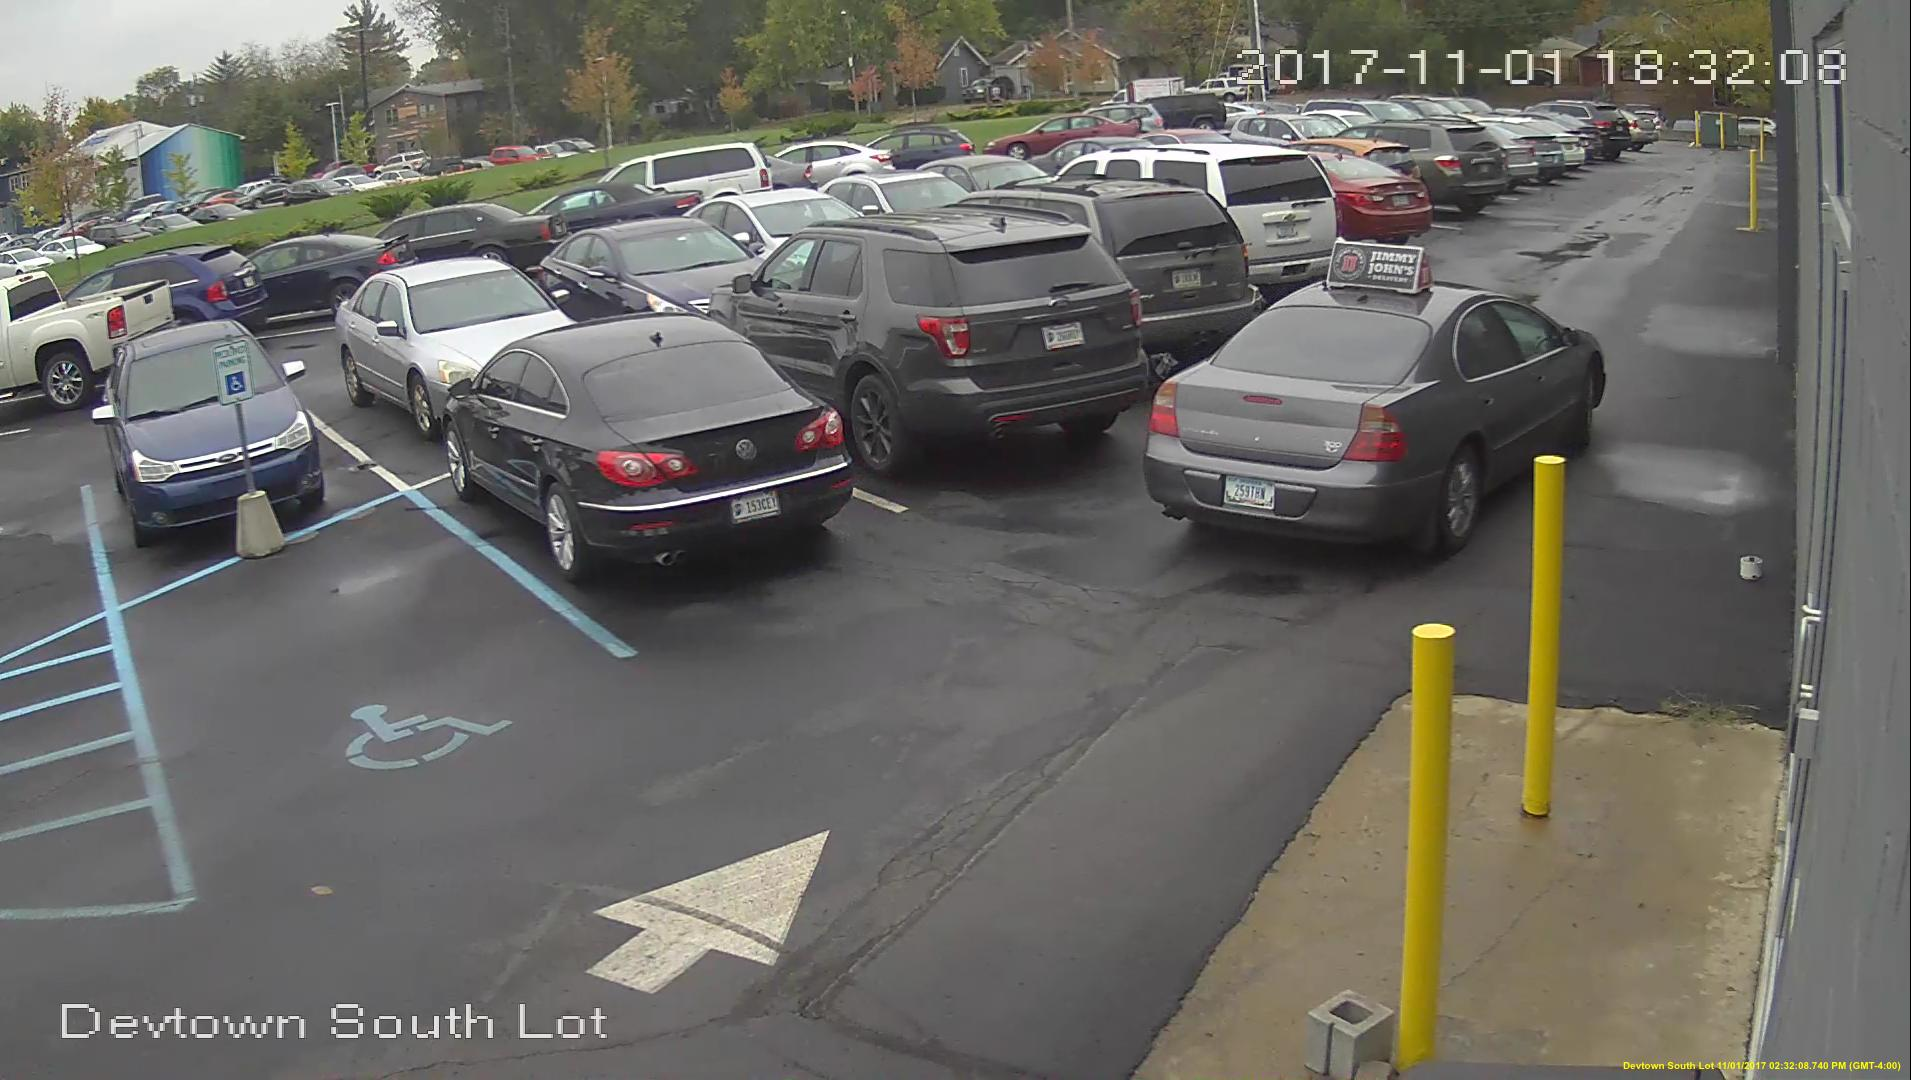jimmy_johns: (1320, 236, 1432, 302)
